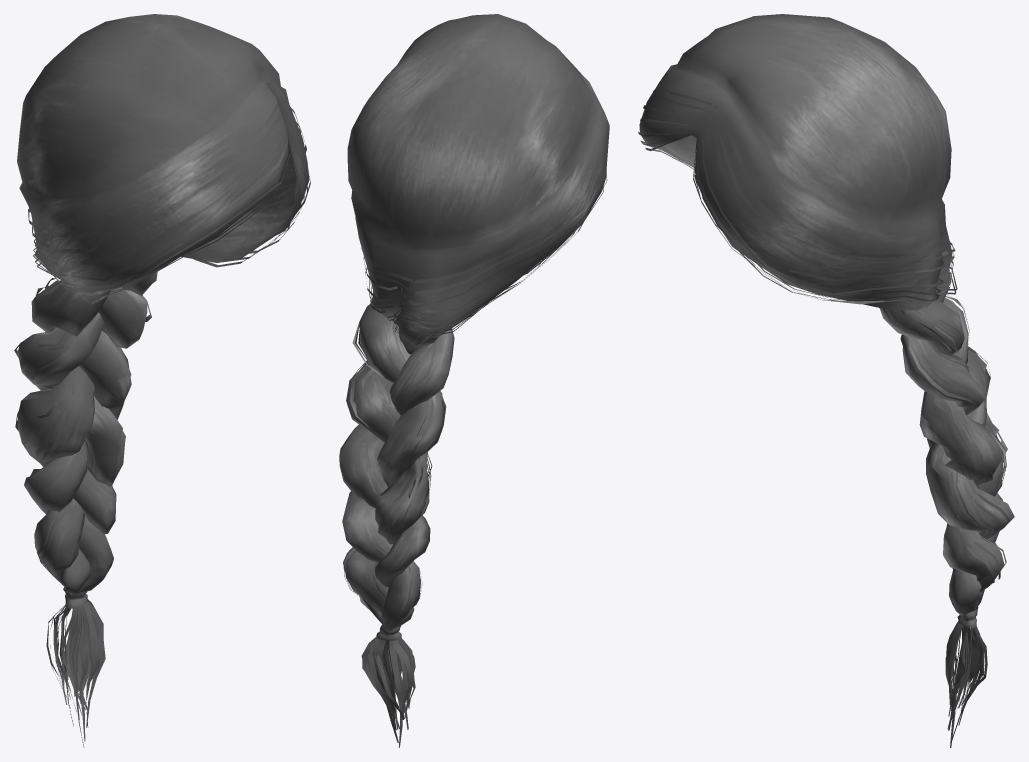
The model's file is braid01.glb.
3 renders of one model, left to right at view 1: azimuth 30°, elevation 25°; view 2: azimuth 150°, elevation 25°; view 3: azimuth 270°, elevation 25°, orthographic. The views are drawn at different scales.
Parts seen in each view (by area): view 1: editor_braid01; view 2: editor_braid01; view 3: editor_braid01.
Part boxes in pixels (box(x1,y1,x2,y2)): editor_braid01: box(14, 14, 310, 747); editor_braid01: box(339, 14, 609, 747); editor_braid01: box(638, 14, 1014, 747).
Size of the model in its own units: 0.1965 by 0.6228 by 0.2939.
1 material, 1 textured.
